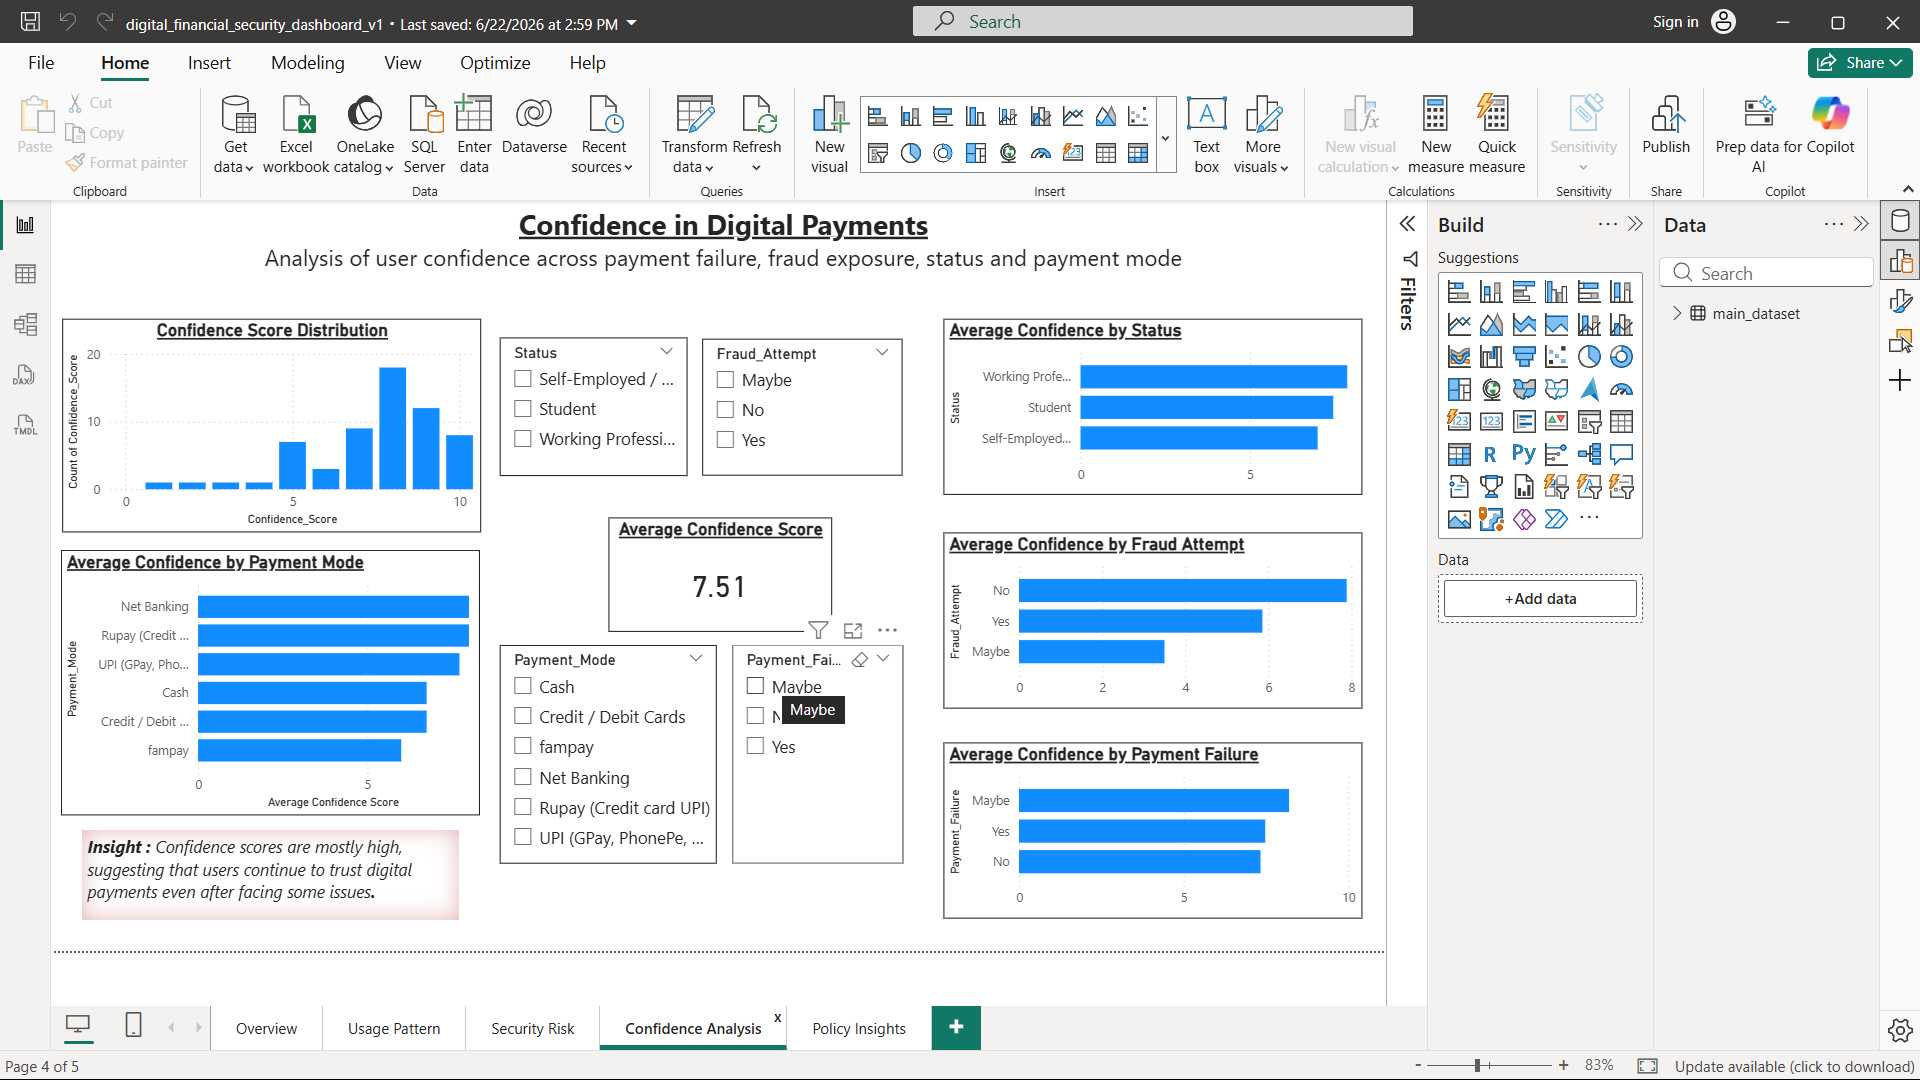

The dashboard page shown, as its layout file describes it:
{"tool":"powerbi","page":{"name":"Confidence Analysis","canvas":[1280,720],"ordinal":3},"visuals":[{"type":"textbox","box":[9.4,0,1270.3,81.2],"z":0},{"type":"card","title":"Average Confidence Score","fields":{"Values":["main_dataset.Average Confidence Score"]},"box":[534.4,304.7,214.1,109.4],"z":1000},{"type":"clusteredColumnChart","title":"Confidence Score Distribution","fields":{"Category":["main_dataset.Confidence_Score"],"Y":["CountNonNull(main_dataset.Confidence_Score)"]},"box":[10.9,114.1,401.6,204.7],"z":2000},{"type":"clusteredBarChart","title":"Average Confidence by Payment Failure","fields":{"Category":["main_dataset.Payment_Failure"],"Y":["main_dataset.Average Confidence Score"]},"box":[856.2,520.3,401.6,168.8],"z":3000},{"type":"clusteredBarChart","title":"Average Confidence by Status","fields":{"Category":["main_dataset.Status"],"Y":["main_dataset.Average Confidence Score"]},"box":[856.2,114.1,401.6,168.8],"z":4000},{"type":"clusteredBarChart","title":"Average Confidence by Fraud Attempt","fields":{"Category":["main_dataset.Fraud_Attempt"],"Y":["main_dataset.Average Confidence Score"]},"box":[856.2,318.8,401.6,168.8],"z":5000},{"type":"clusteredBarChart","title":"Average Confidence by Payment Mode","fields":{"Category":["main_dataset.Payment_Mode"],"Y":["main_dataset.Average Confidence Score"]},"box":[9.4,335.9,401.6,254.7],"z":6000},{"type":"slicer","fields":{"Values":["main_dataset.Status"]},"box":[429.7,131.2,179.7,132.8],"z":7000},{"type":"slicer","fields":{"Values":["main_dataset.Payment_Failure"]},"box":[653.1,426.6,164.1,209.4],"z":8000},{"type":"slicer","fields":{"Values":["main_dataset.Fraud_Attempt"]},"box":[625,132.8,192.2,131.2],"z":9000},{"type":"slicer","fields":{"Values":["main_dataset.Payment_Mode"]},"box":[429.7,426.6,207.8,209.4],"z":10000},{"type":"textbox","box":[30.3,604.5,360.7,86.6],"z":11000}]}

Visuals, with their boxes on the page's 1280x720 design canvas (x1, y1, x2, y2). These are canvas units, not pixel positions in the 1920x1080 screenshot, which may show the page scaled, cropped or inside an application window:
textbox: x1=9 y1=0 x2=1280 y2=81
"Average Confidence Score" card: x1=534 y1=305 x2=748 y2=414
"Confidence Score Distribution" clusteredColumnChart: x1=11 y1=114 x2=412 y2=319
"Average Confidence by Payment Failure" clusteredBarChart: x1=856 y1=520 x2=1258 y2=689
"Average Confidence by Status" clusteredBarChart: x1=856 y1=114 x2=1258 y2=283
"Average Confidence by Fraud Attempt" clusteredBarChart: x1=856 y1=319 x2=1258 y2=488
"Average Confidence by Payment Mode" clusteredBarChart: x1=9 y1=336 x2=411 y2=591
slicer - main_dataset.Status: x1=430 y1=131 x2=609 y2=264
slicer - main_dataset.Payment_Failure: x1=653 y1=427 x2=817 y2=636
slicer - main_dataset.Fraud_Attempt: x1=625 y1=133 x2=817 y2=264
slicer - main_dataset.Payment_Mode: x1=430 y1=427 x2=638 y2=636
textbox: x1=30 y1=604 x2=391 y2=691
